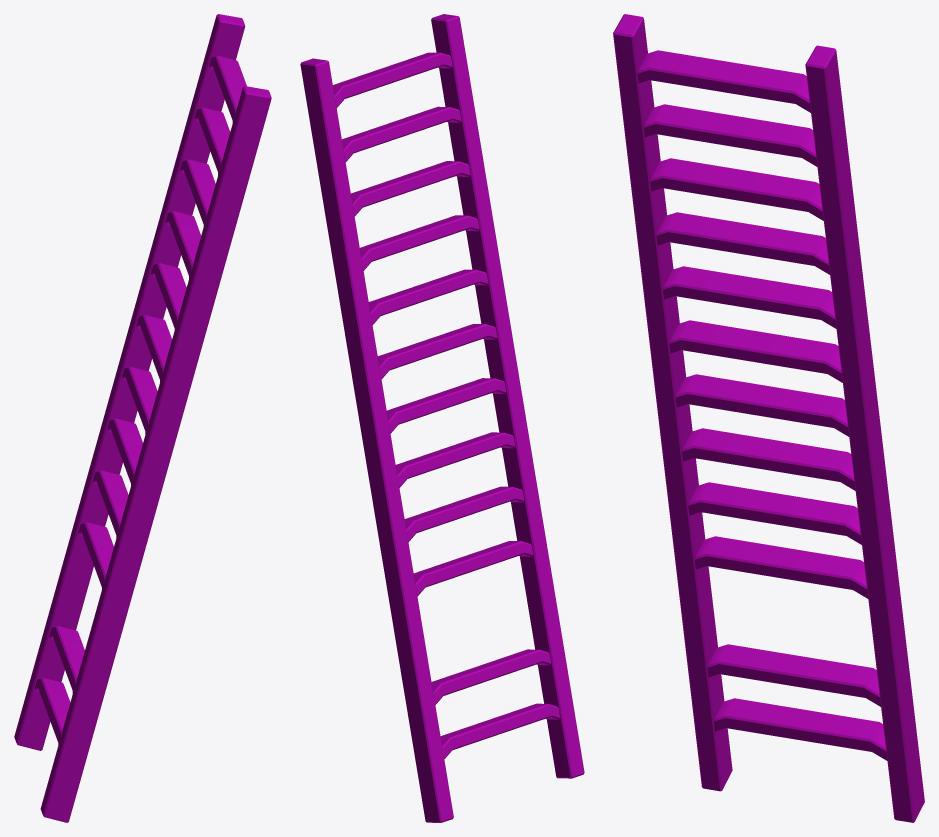
The model's file is Ladder.fbx.
3 views of the same model, side by side, from view 1: azimuth 30°, elevation 25°; view 2: azimuth 150°, elevation 25°; view 3: azimuth 270°, elevation 25° (orthographic). The views are drawn at different scales.
Parts seen in each view (by area): view 1: Ladder; view 2: Ladder; view 3: Ladder.
Part boxes in pixels (x1,y1,x2,y2): Ladder: [14, 14, 271, 822]; Ladder: [300, 14, 584, 822]; Ladder: [613, 14, 924, 822].
Bounding box in the file's own units: 1.84 × 5.15 × 1.69.
